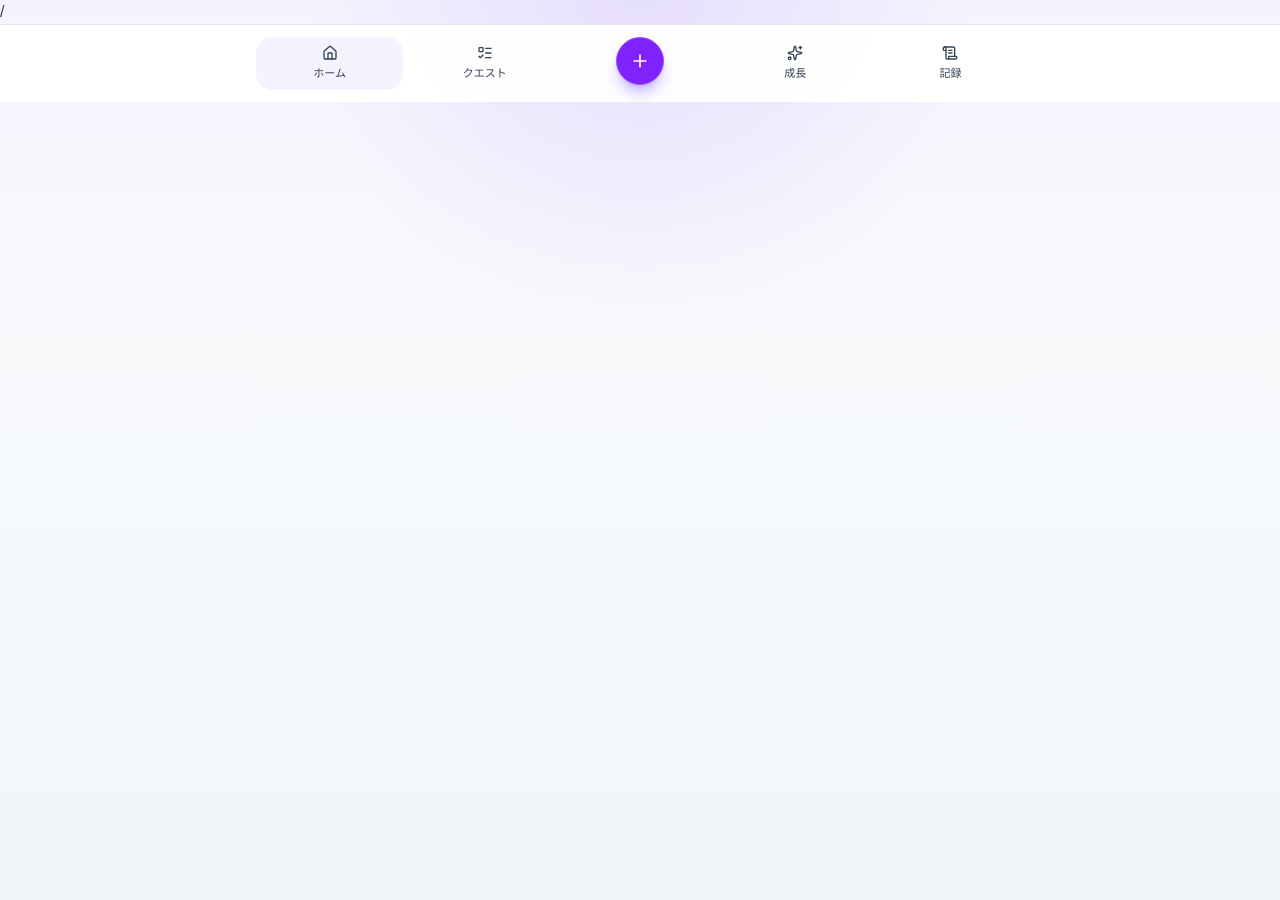
Test: BottomNav › opens the add action sheet and closes it on outside click, escape, and selection
The image size is (1280, 900).
Click the button named "追加メニューを開く".
click(640, 61)  # box [616,37,664,85]
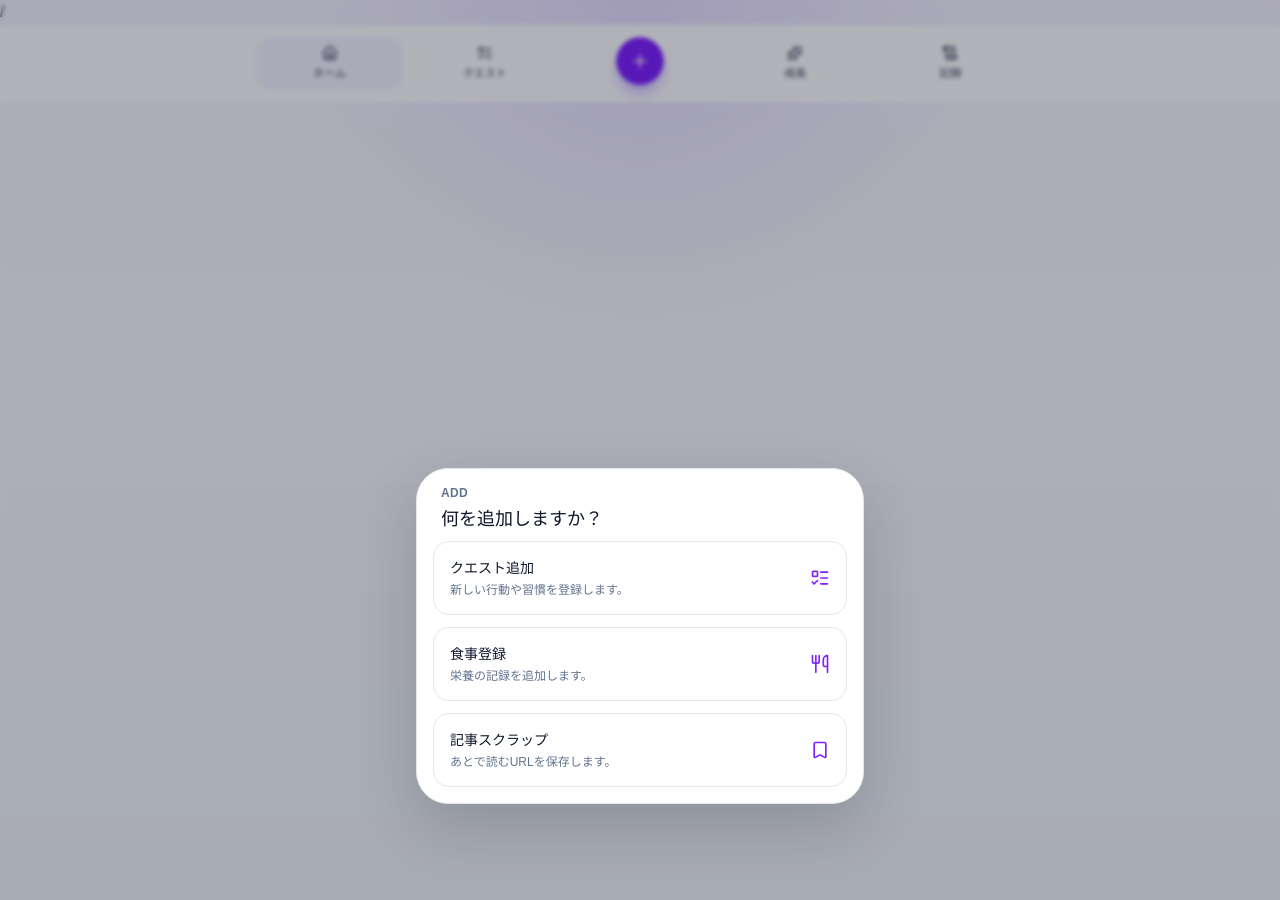
Check: the button "クエスト追加 新しい行動や習慣を登録します。" is shown, box [433,541,847,615]
Check: the button "食事登録 栄養の記録を追加します。" is shown, box [433,627,847,701]
Click the button named "追加メニューを閉じる".
click(640, 450)  # box [0,0,1279,899]
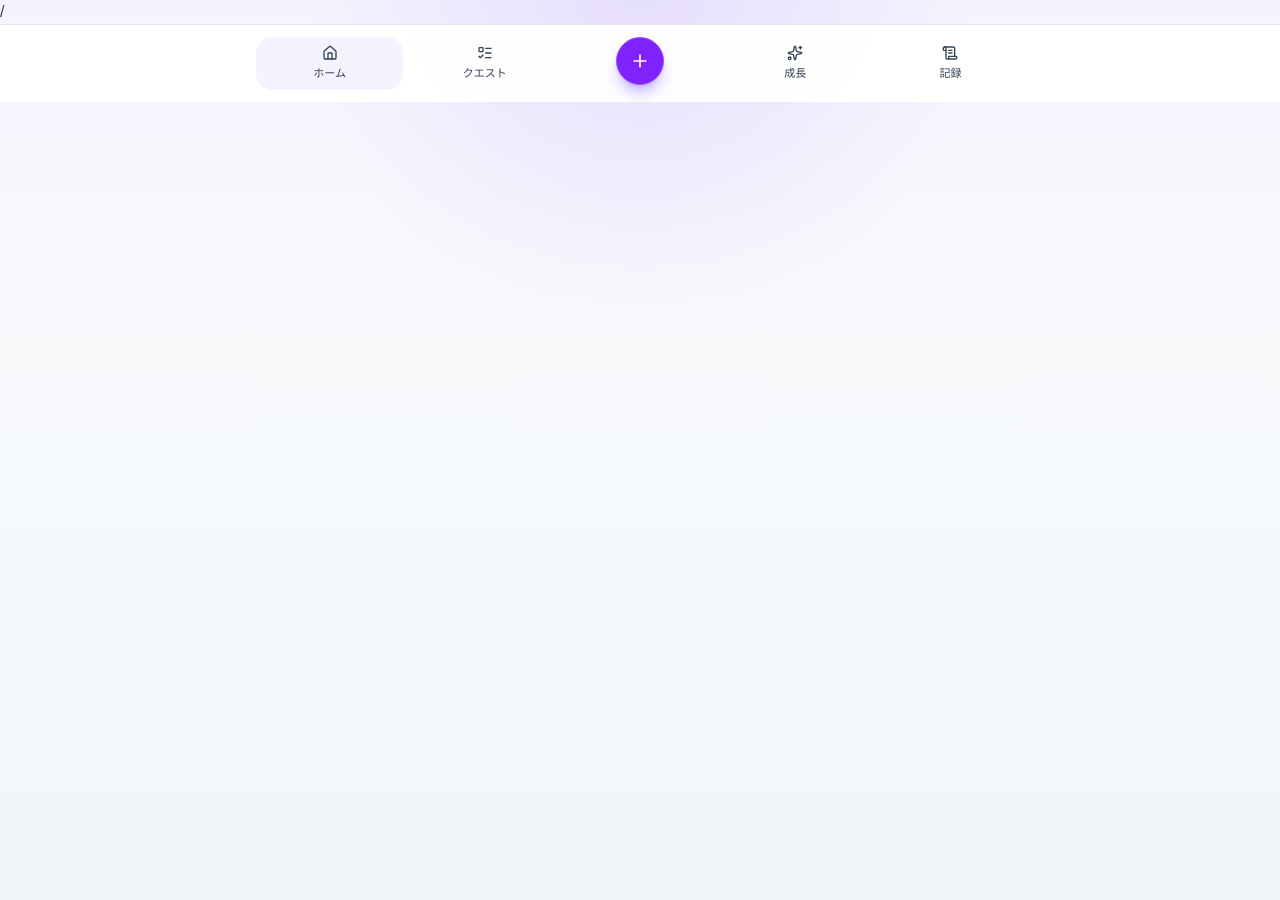
Check: the button "クエスト追加" is gone
Click the button named "追加メニューを開く".
click(640, 61)  # box [616,37,664,85]
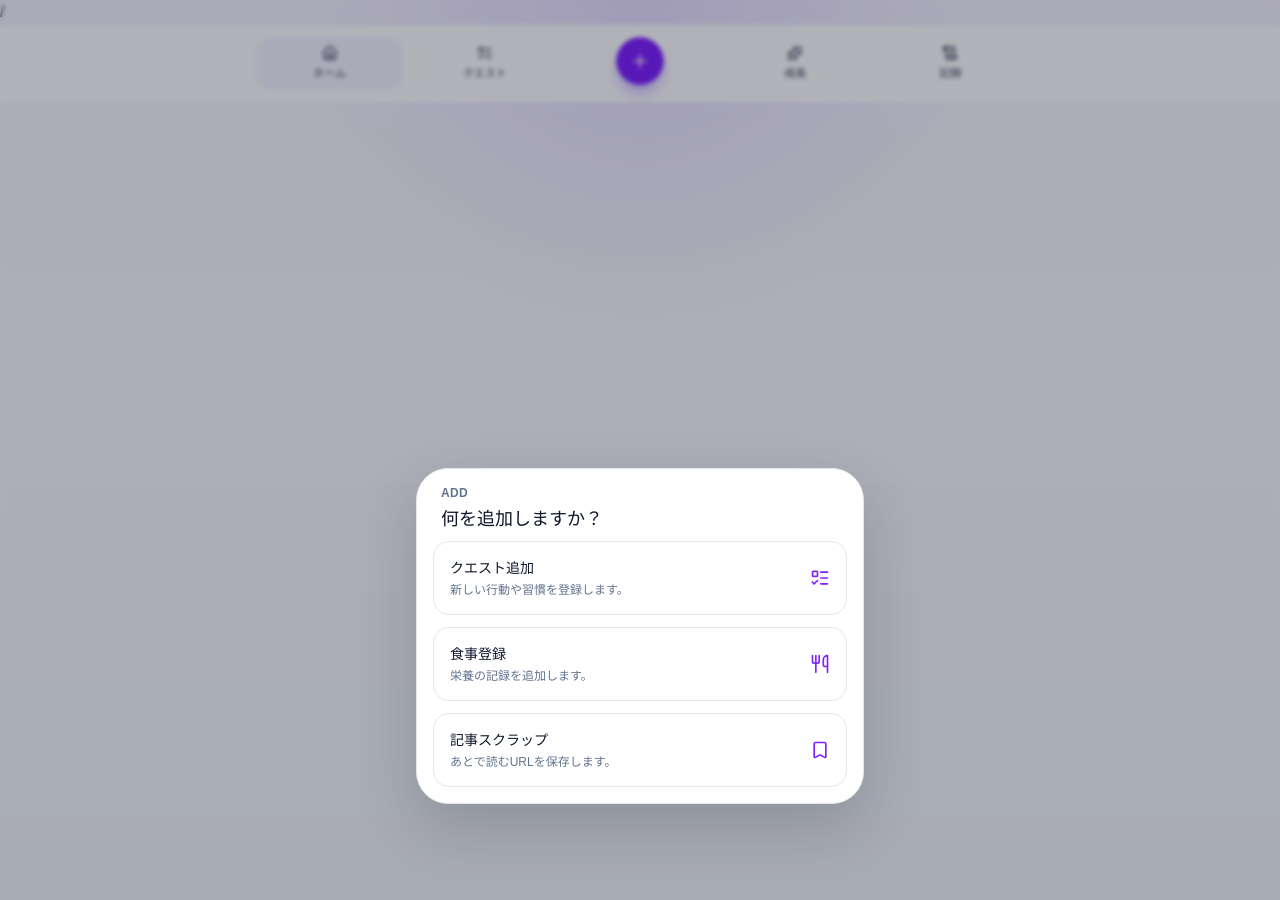
Press Escape
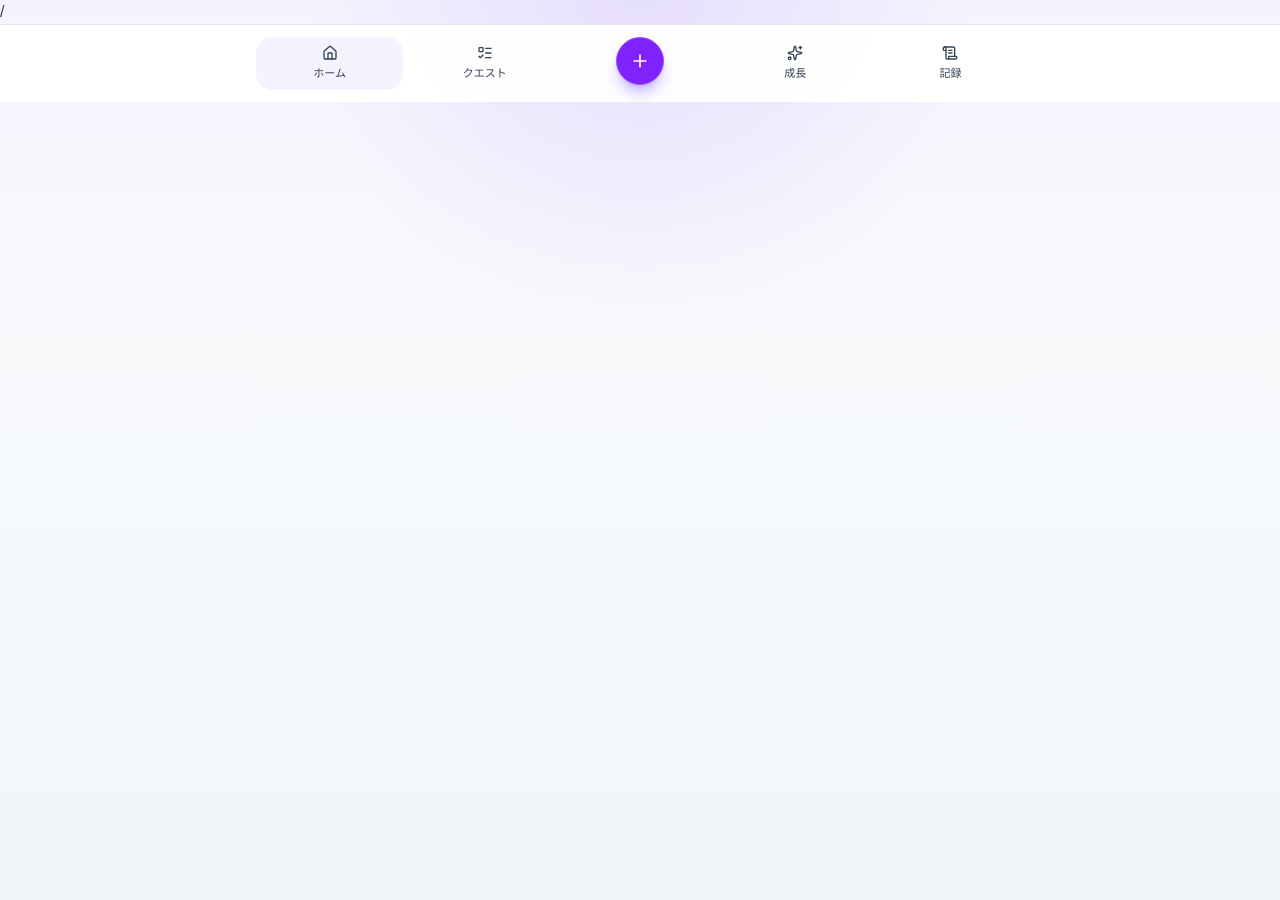
Check: the button "クエスト追加" is gone
Click the button named "追加メニューを開く".
click(640, 61)  # box [616,37,664,85]
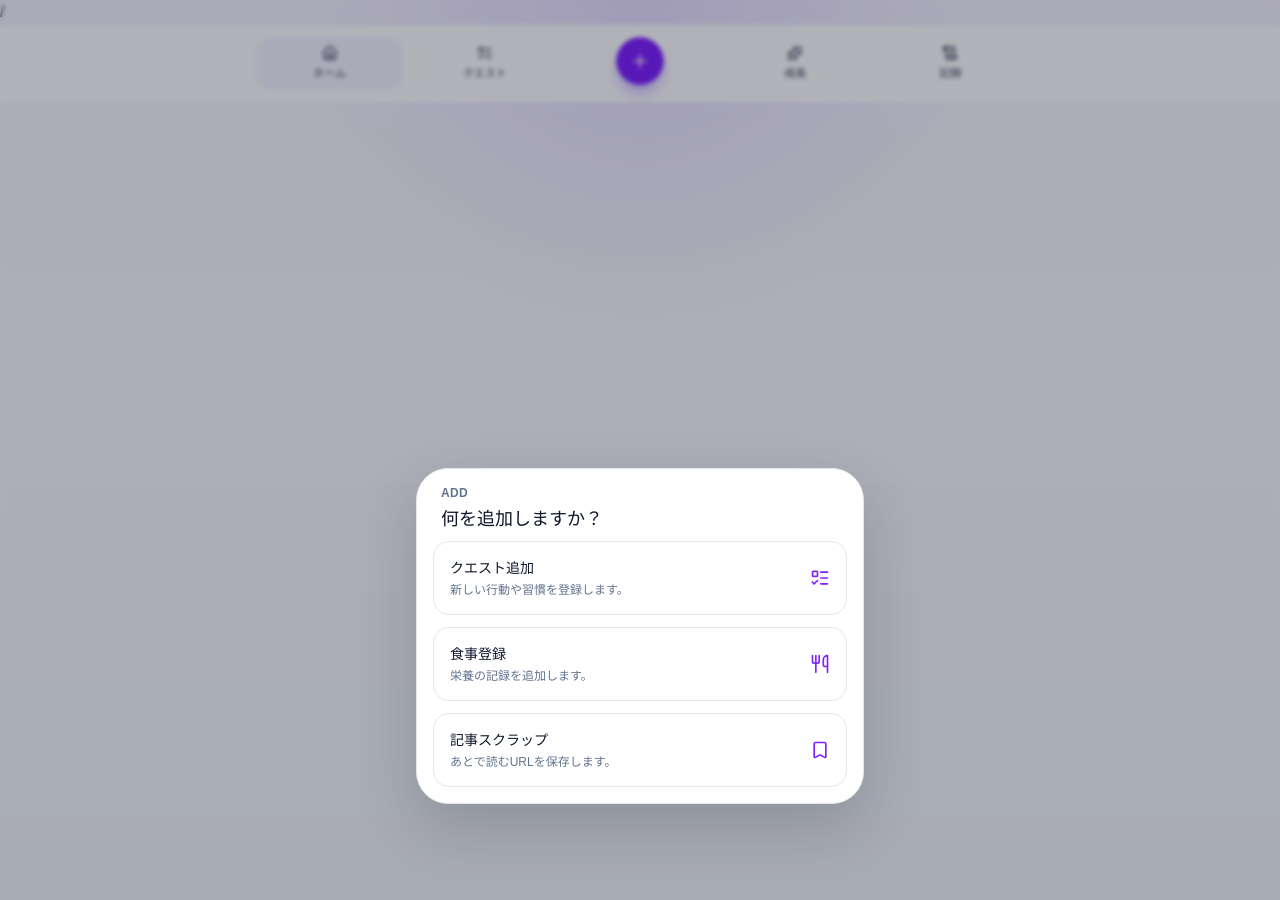
Click the button "食事登録 栄養の記録を追加します。".
click(478, 654)  # box [433,627,847,701]
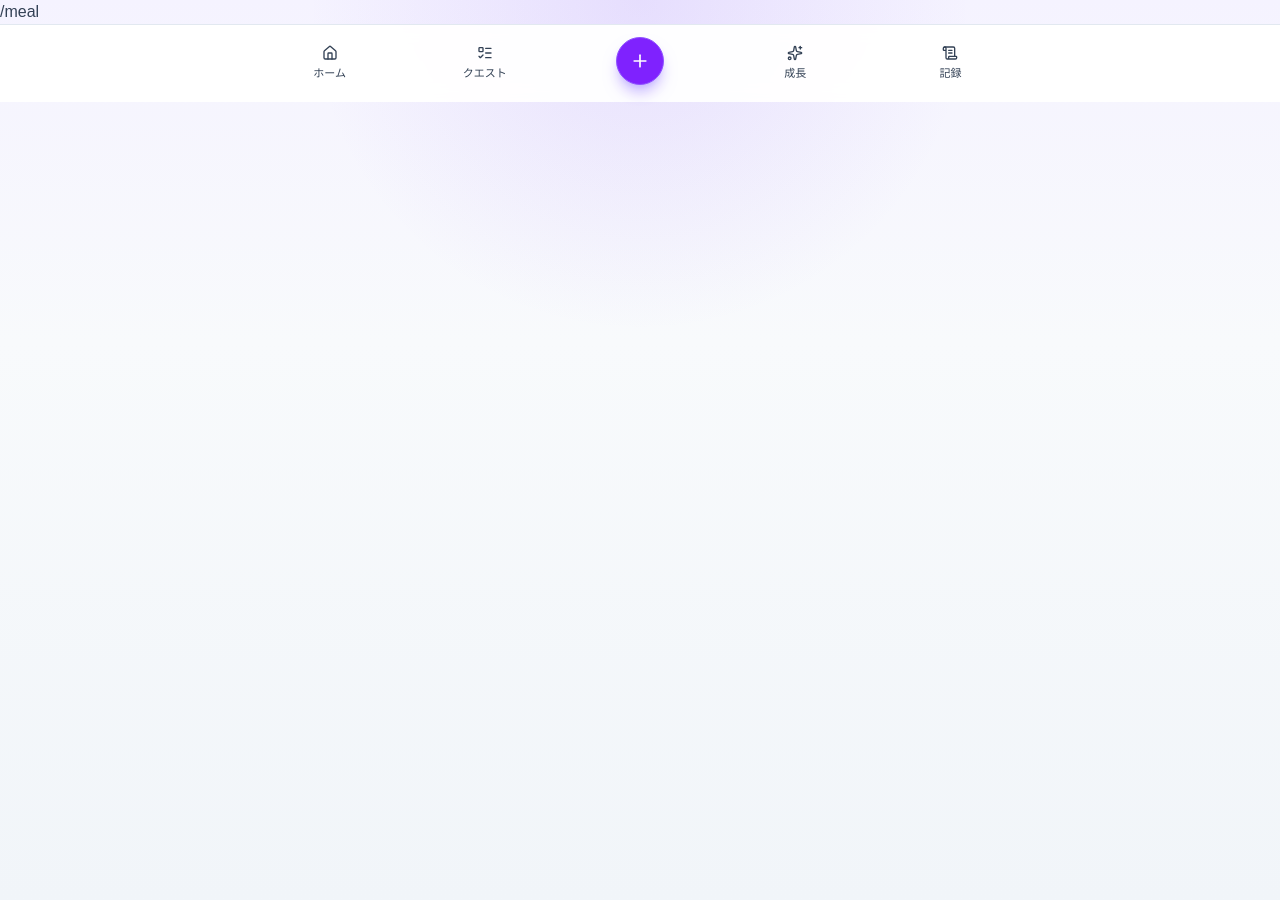
Check: the text with test id "location" reads "/meal", box [0,3,39,20]
Check: the button "クエスト追加" is gone
